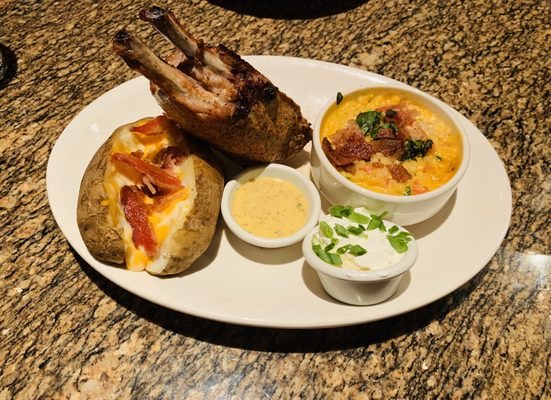soup: (75, 112, 225, 275)
sushi: (308, 85, 471, 225), (302, 204, 419, 305), (221, 161, 322, 248)
